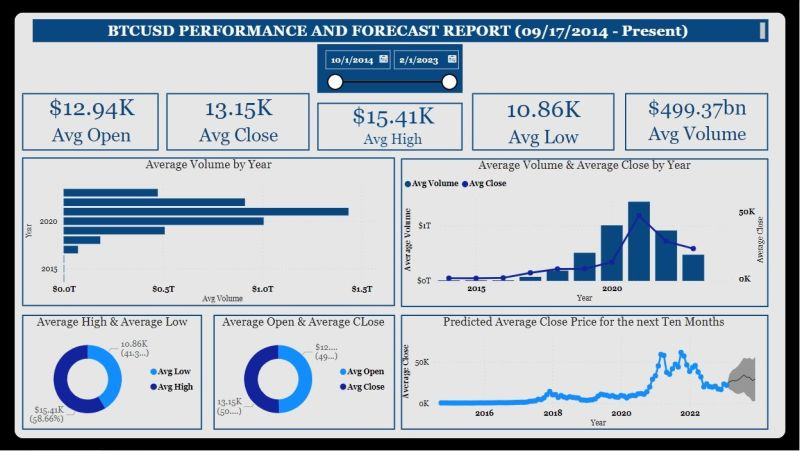

The dashboard page shown, as its layout file describes it:
{"tool":"powerbi","page":{"name":"Page 1","canvas":[1280,720],"ordinal":0},"visuals":[{"type":"shape","box":[25.7,19.7,1231,681.4],"z":0},{"type":"textbox","box":[55.3,30.7,1174.4,36.8],"z":1000},{"type":"slicer","fields":{"Values":["BTCUSD 17/09/2014 - present.Date"]},"box":[563.4,70.6,141.2,78.3],"z":2000},{"type":"shape","box":[38.4,148.9,218,92.1],"z":3000},{"type":"shape","box":[268.7,148.9,228.7,92.1],"z":4000},{"type":"shape","box":[509.7,164.3,231.8,76.8],"z":5000},{"type":"shape","box":[756.8,148.9,227.2,92.1],"z":6000},{"type":"shape","box":[1000.9,148.9,228.7,92.1],"z":7000},{"type":"shape","box":[38.4,251.8,595.7,238],"z":8000},{"type":"shape","box":[643.2,253.3,586.4,238],"z":9000},{"type":"shape","box":[38.4,503.5,287.1,184.2],"z":10000},{"type":"shape","box":[643.2,503.5,586.4,184.2],"z":11000},{"type":"shape","box":[343.9,503.5,290.1,184.2],"z":12000},{"type":"card","fields":{"Values":["BTCUSD 17/09/2014 - present.Avg Open"]},"box":[55.3,132,187.3,109],"z":13000},{"type":"card","fields":{"Values":["BTCUSD 17/09/2014 - present.Avg Close"]},"box":[290.1,132,187.3,109],"z":14000},{"type":"card","fields":{"Values":["BTCUSD 17/09/2014 - present.Avg High"]},"box":[535.8,148.9,188.8,92.1],"z":15000},{"type":"card","fields":{"Values":["BTCUSD 17/09/2014 - present.Avg Low"]},"box":[776.8,135.1,187.3,109],"z":16000},{"type":"card","fields":{"Values":["BTCUSD 17/09/2014 - present.Avg Volume"]},"box":[1022.4,132,187.3,109],"z":17000},{"type":"clusteredBarChart","title":"Average Volume by Year","fields":{"Category":["BTCUSD 17/09/2014 - present.Date.Variation.Date Hierarchy.Year","BTCUSD 17/09/2014 - present.Date.Variation.Date Hierarchy.Month"],"Y":["BTCUSD 17/09/2014 - present.Avg Volume"]},"box":[38.4,251.8,595.7,238],"z":18000},{"type":"lineStackedColumnComboChart","title":"Average Volume & Average Close by Year","fields":{"Category":["BTCUSD 17/09/2014 - present.Date.Variation.Date Hierarchy.Year"],"Y":["BTCUSD 17/09/2014 - present.Avg Volume"],"Y2":["BTCUSD 17/09/2014 - present.Avg Close"]},"box":[643.2,253.3,586.4,234.9],"z":19000},{"type":"donutChart","title":"Average High & Average Low","fields":{"Y":["BTCUSD 17/09/2014 - present.Avg Low","BTCUSD 17/09/2014 - present.Avg High"]},"box":[38.4,503.5,287.1,184.2],"z":20000},{"type":"donutChart","title":"Average Open & Average CLose","fields":{"Y":["BTCUSD 17/09/2014 - present.Avg Open","BTCUSD 17/09/2014 - present.Avg Close"]},"box":[343.9,503.5,287.1,184.2],"z":21000},{"type":"lineChart","title":"Predicted Average Close Price for the next Ten Months","fields":{"Category":["BTCUSD 17/09/2014 - present.Date.Variation.Date Hierarchy.Year","BTCUSD 17/09/2014 - present.Date.Variation.Date Hierarchy.Month"],"Y":["BTCUSD 17/09/2014 - present.Avg Close"]},"box":[640.2,503.5,589.5,184.2],"z":22000}]}

Visuals, with their boxes in screenshot pixels (x1, y1, x2, y2), scaled from the page's 1280x720 canvas onto the 800x451 screenshot:
shape: x1=16 y1=12 x2=785 y2=439
textbox: x1=35 y1=19 x2=769 y2=42
slicer - BTCUSD 17/09/2014 - present.Date: x1=352 y1=44 x2=440 y2=93
shape: x1=24 y1=93 x2=160 y2=151
shape: x1=168 y1=93 x2=311 y2=151
shape: x1=319 y1=103 x2=463 y2=151
shape: x1=473 y1=93 x2=615 y2=151
shape: x1=626 y1=93 x2=768 y2=151
shape: x1=24 y1=158 x2=396 y2=307
shape: x1=402 y1=159 x2=768 y2=308
shape: x1=24 y1=315 x2=203 y2=431
shape: x1=402 y1=315 x2=768 y2=431
shape: x1=215 y1=315 x2=396 y2=431
card - BTCUSD 17/09/2014 - present.Avg Open: x1=35 y1=83 x2=152 y2=151
card - BTCUSD 17/09/2014 - present.Avg Close: x1=181 y1=83 x2=298 y2=151
card - BTCUSD 17/09/2014 - present.Avg High: x1=335 y1=93 x2=453 y2=151
card - BTCUSD 17/09/2014 - present.Avg Low: x1=486 y1=85 x2=603 y2=153
card - BTCUSD 17/09/2014 - present.Avg Volume: x1=639 y1=83 x2=756 y2=151
"Average Volume by Year" clusteredBarChart: x1=24 y1=158 x2=396 y2=307
"Average Volume & Average Close by Year" lineStackedColumnComboChart: x1=402 y1=159 x2=768 y2=306
"Average High & Average Low" donutChart: x1=24 y1=315 x2=203 y2=431
"Average Open & Average CLose" donutChart: x1=215 y1=315 x2=394 y2=431
"Predicted Average Close Price for the next Ten Months" lineChart: x1=400 y1=315 x2=769 y2=431
